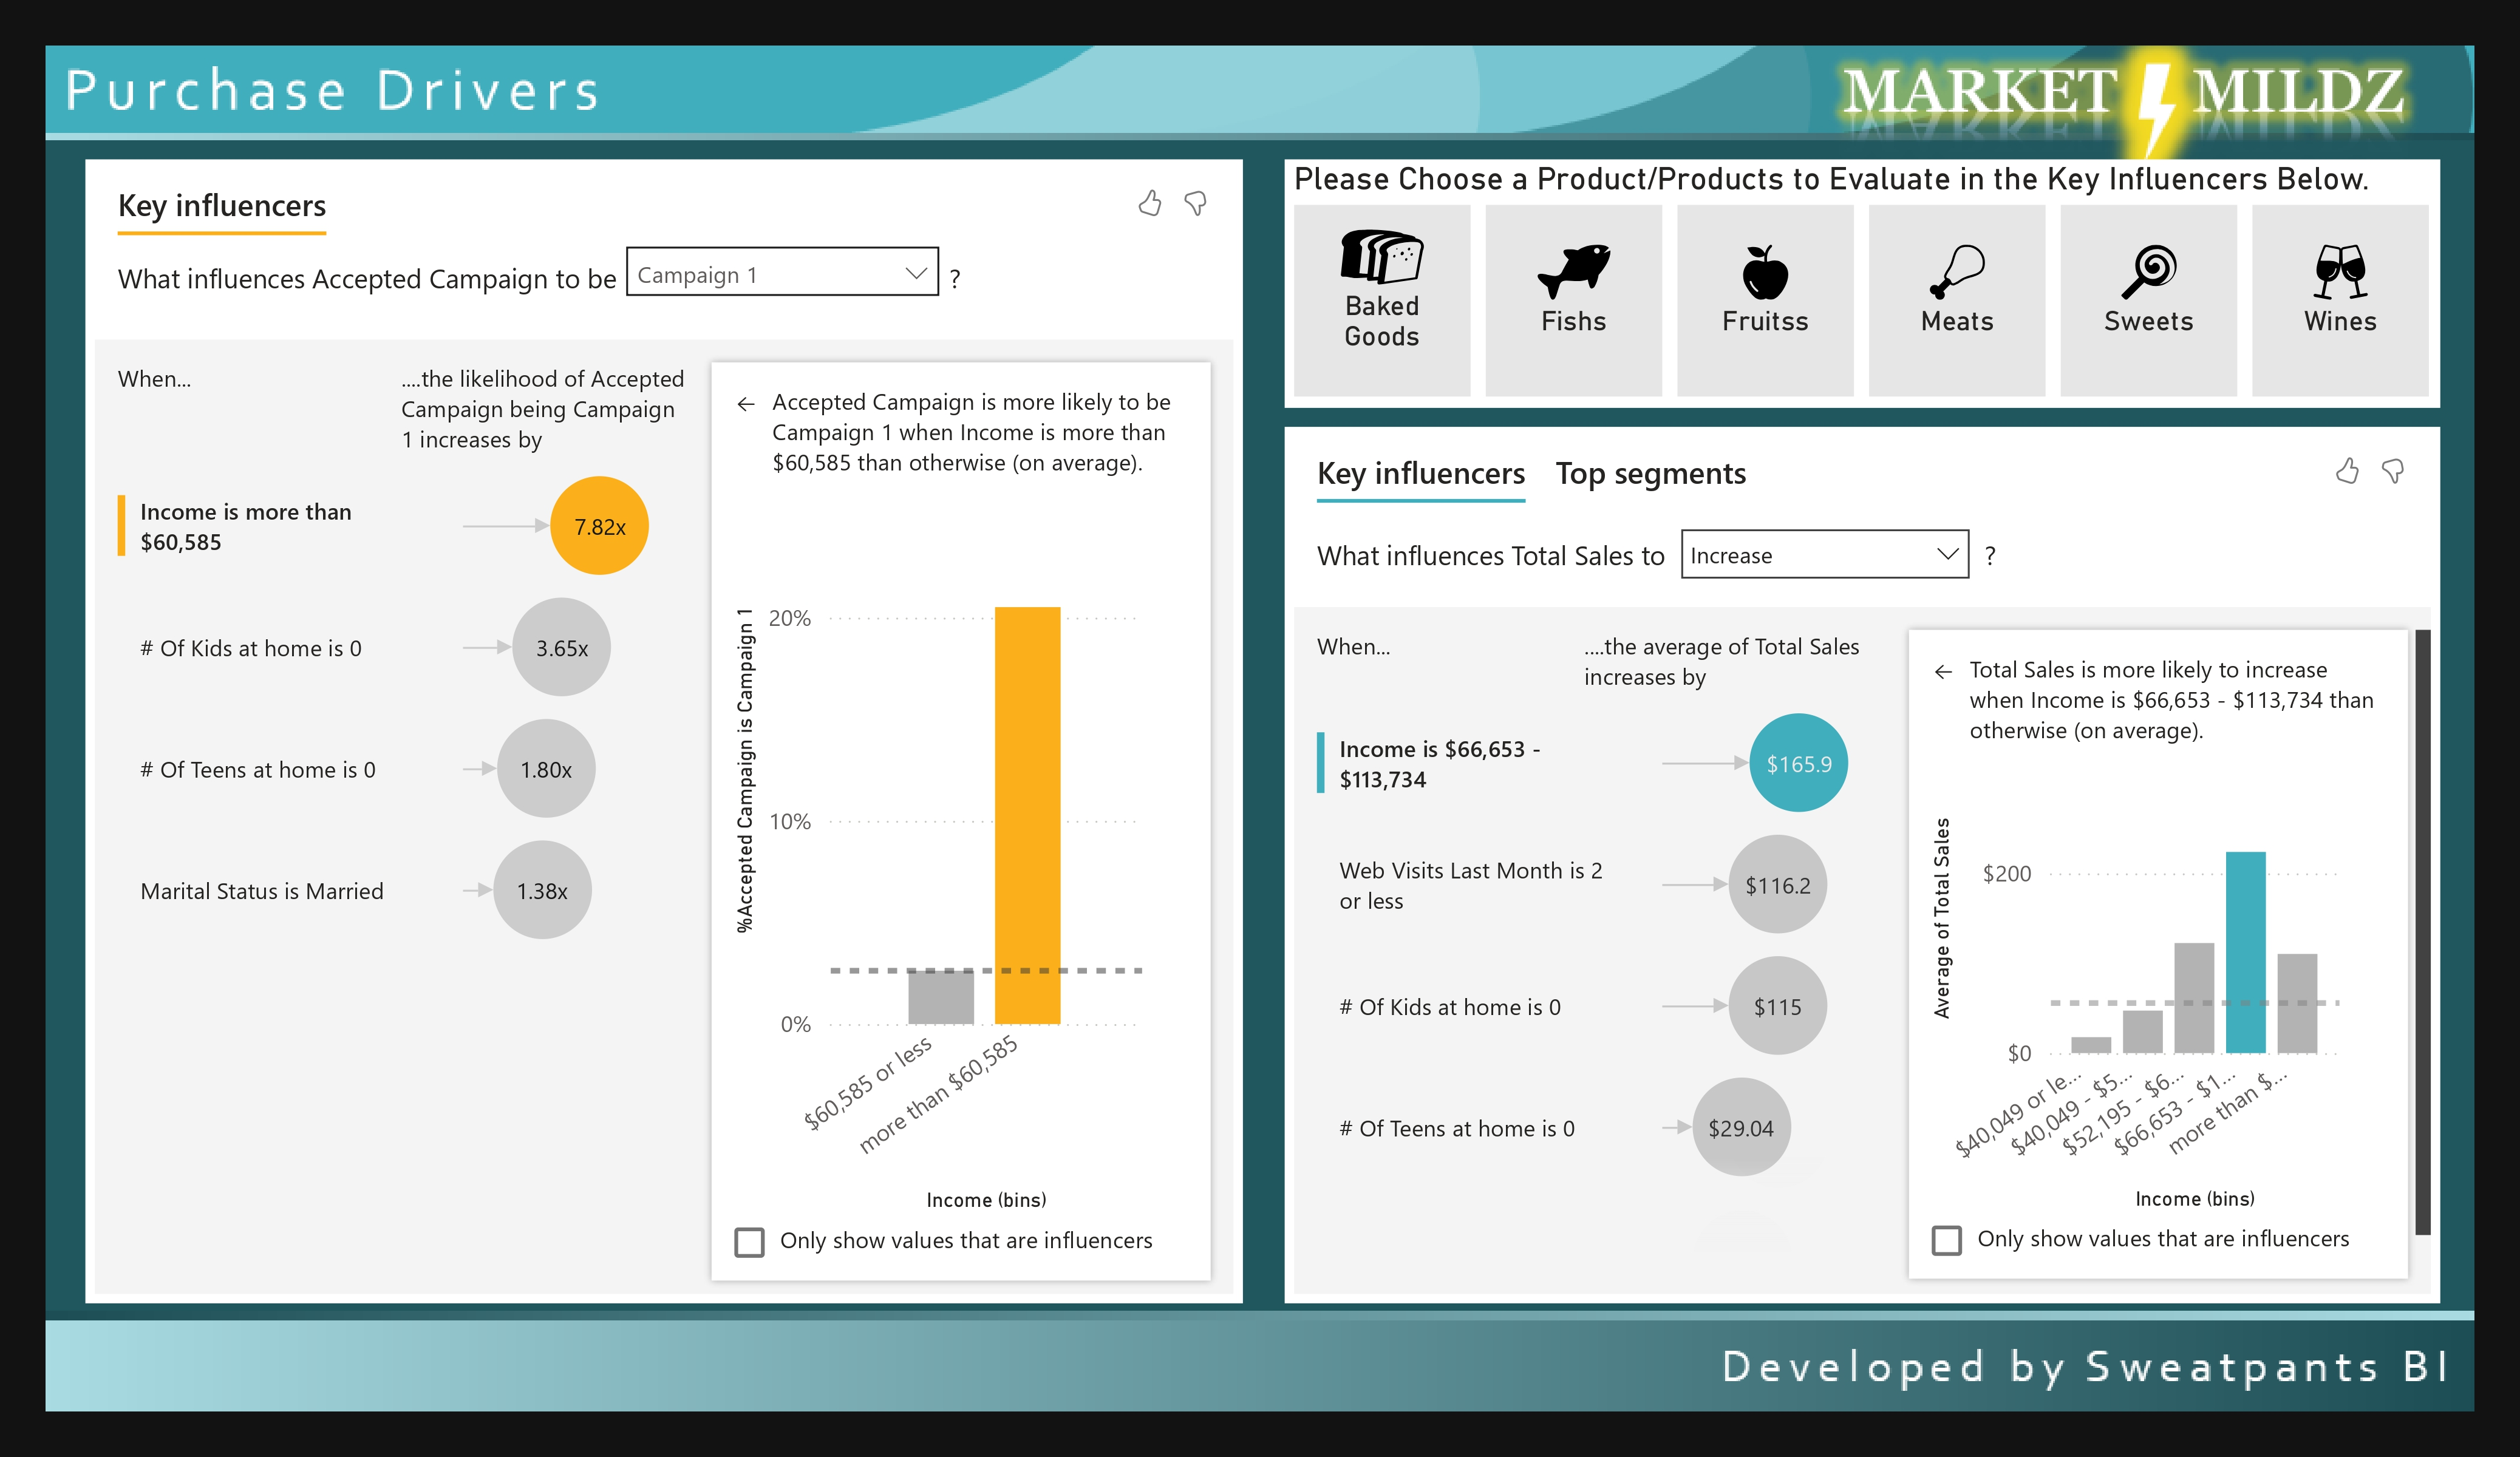

The dashboard page shown, as its layout file describes it:
{"tool":"powerbi","page":{"name":"Purchase Drivers","canvas":[1280,720],"ordinal":2},"visuals":[{"type":"keyDriversVisual","fields":{"Target":["campaign.Campaign"],"ExplainBy":["marketmindz_research_data.Age","marketmindz_research_data. Income ","marketmindz_research_data.Country","marketmindz_research_data.Education","marketmindz_research_data.Marital_Status","marketmindz_research_data.Teenhome","marketmindz_research_data.Kidhome","marketmindz_research_data.Web Visits Last Month"]},"box":[21.3,59.5,609.3,603.6],"z":0},{"type":"keyDriversVisual","fields":{"ExplainBy":["marketmindz_research_data.Age","marketmindz_research_data. Income ","marketmindz_research_data.Country","marketmindz_research_data.Education","marketmindz_research_data.Marital_Status","marketmindz_research_data.Teenhome","marketmindz_research_data.Kidhome","marketmindz_research_data.Web Visits Last Month"],"Target":["products.Total Sales"]},"box":[653.2,201.2,609.3,461.9],"z":1000},{"type":"advancedSlicerVisual","title":"Please Choose a Product/Products to Evaluate in the Key Influencers Below.","fields":{"Values":["products.Product"]},"box":[653.2,59.5,609.3,131.8],"z":2000}]}

Visuals, with their boxes in screenshot pixels (x1, y1, x2, y2):
keyDriversVisual - campaign.Campaign x marketmindz_research_data.Age: {"x1": 92, "y1": 164, "x2": 1233, "y2": 1294}
keyDriversVisual - marketmindz_research_data.Age x marketmindz_research_data. Income : {"x1": 1276, "y1": 429, "x2": 2417, "y2": 1294}
"Please Choose a Product/Products to Evaluate in the Key Influencers Below." advancedSlicerVisual: {"x1": 1276, "y1": 164, "x2": 2417, "y2": 410}
